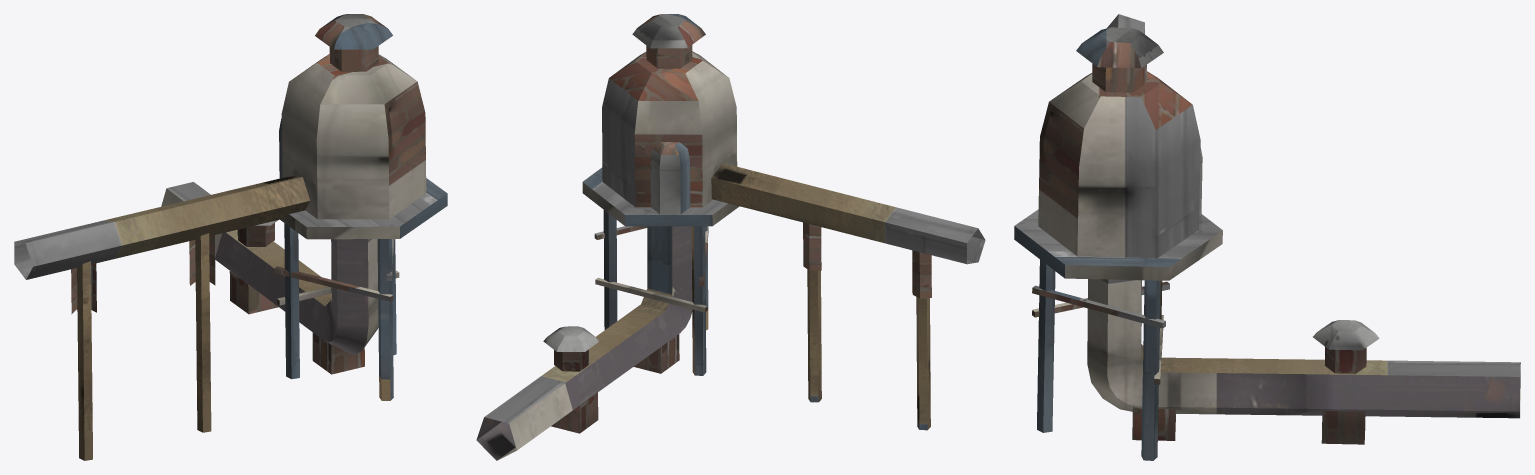
The model's file is tank_pipeline.obj.
The picture shows the model from 3 angles, left to right: view 1: azimuth 30°, elevation 25°; view 2: azimuth 150°, elevation 25°; view 3: azimuth 270°, elevation 25°; orthographic projection. The views are drawn at different scales.
Parts seen in each view (by area): view 1: tank1; view 2: tank1; view 3: tank1.
Part boxes in pixels (<box>): tank1: <box>14,14,447,460</box>; tank1: <box>476,14,985,460</box>; tank1: <box>1014,14,1520,460</box>.
Size of the model in its own units: 1328 by 1179 by 1304.
